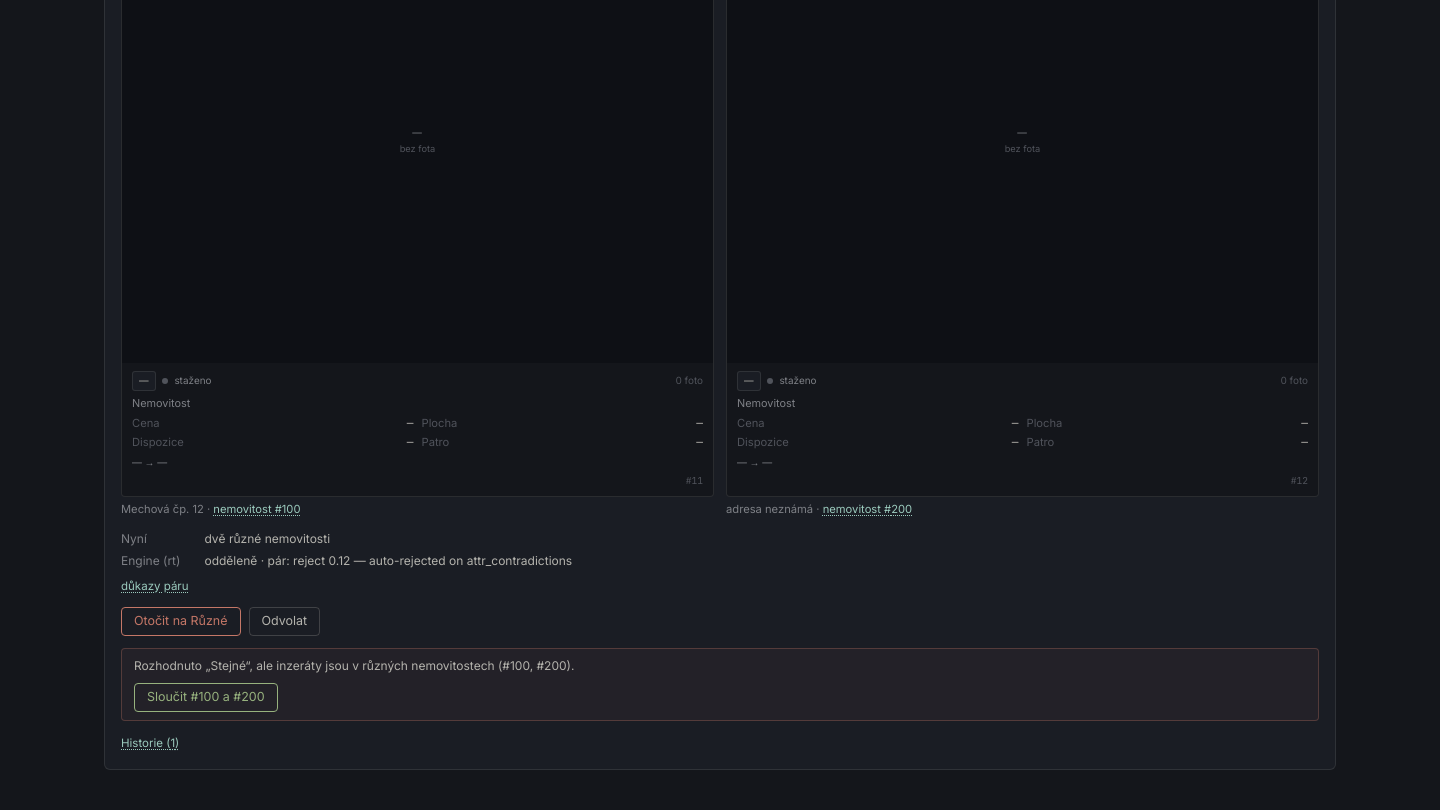
Test case: <AutodedupRulings> corrections are new rulings › says so when the ruling was ruled again since the page loaded (409)
This screenshot has width=1440, height=810.
(page scrolled)
Click the button "Otočit na Různé".
click(181, 622)  # box top-left (121, 607), bottom-right (240, 636)
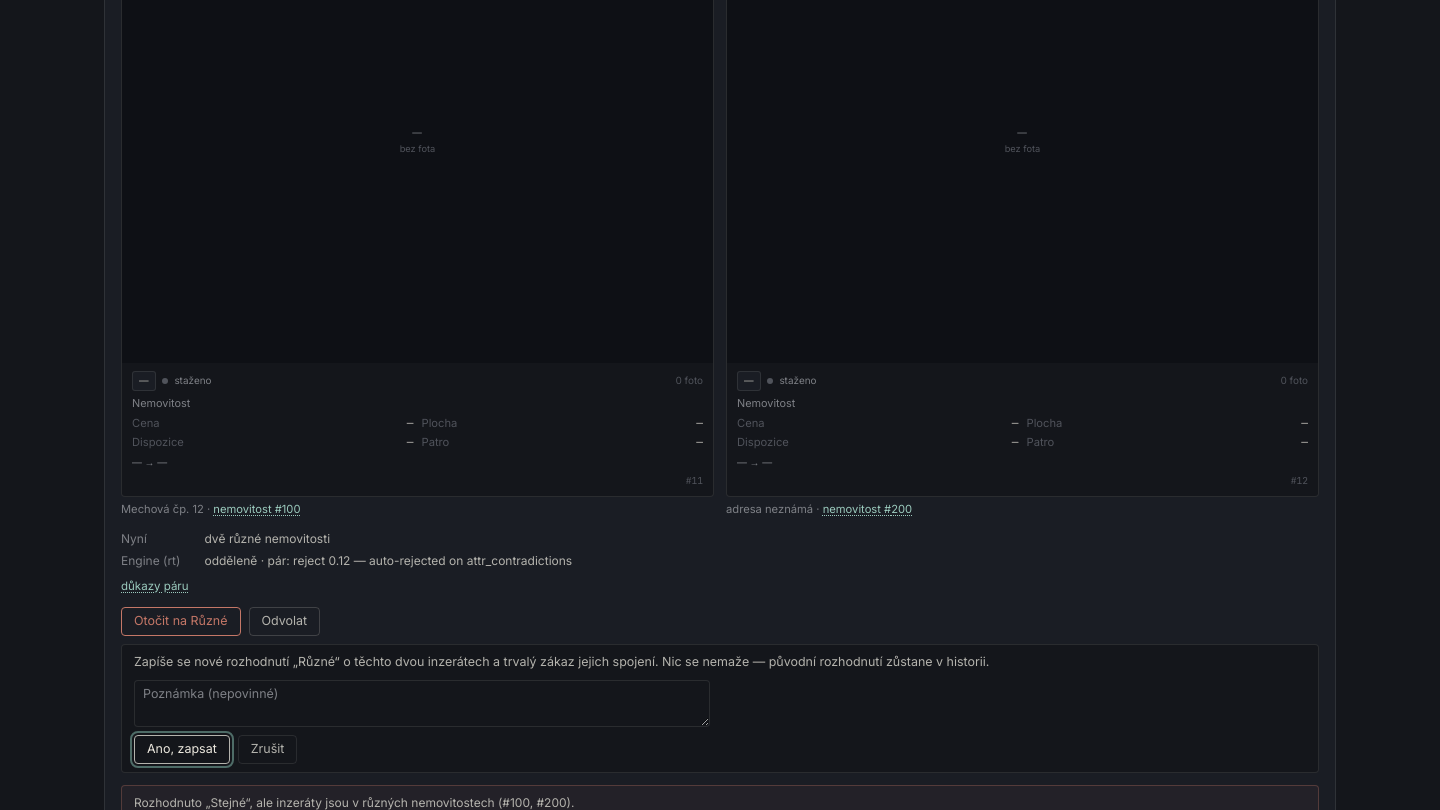
Click the button "Ano, zapsat".
click(182, 749)  # box top-left (134, 735), bottom-right (230, 764)
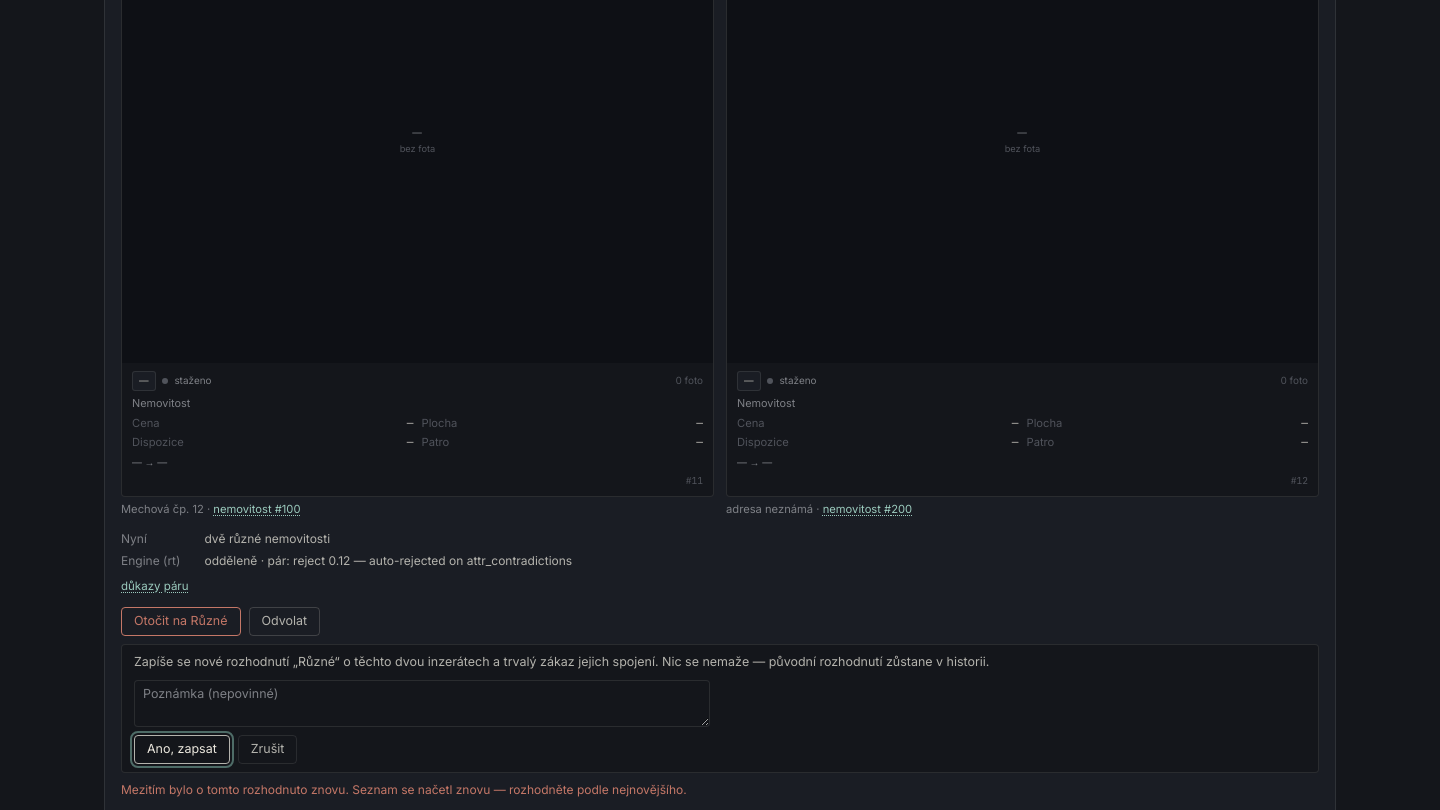
Expected: the message shows "Mezitím bylo o tomto rozhodnuto znovu", top-left (121, 782), bottom-right (687, 797)
